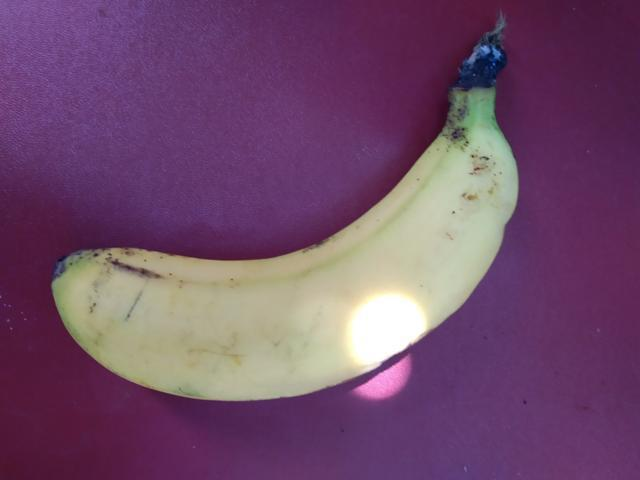freshripe: (51, 89, 567, 440)
